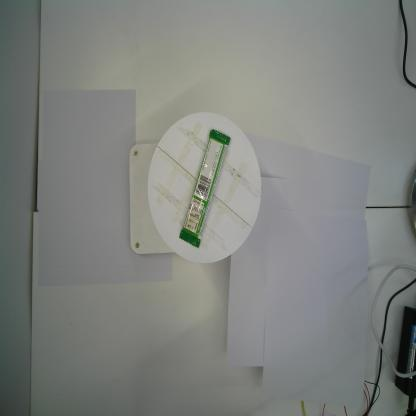Chocolate: (179, 130, 231, 248)
